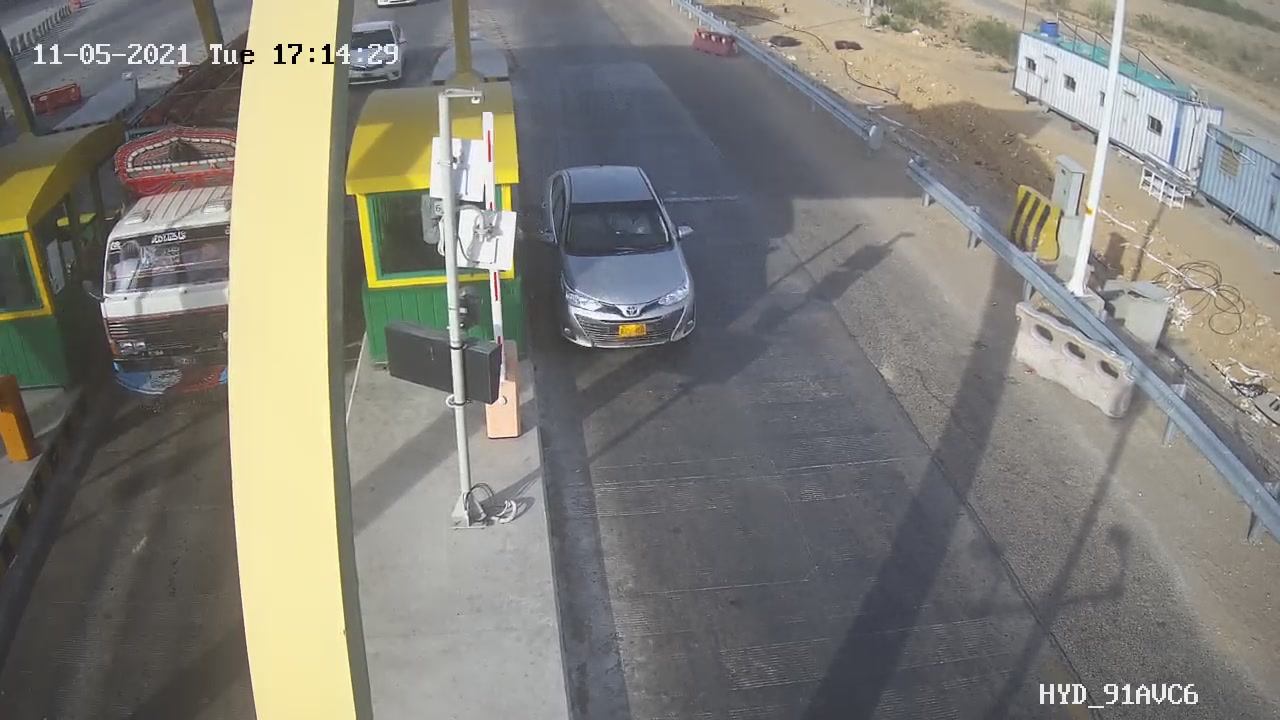F1: (522, 146, 720, 372)
